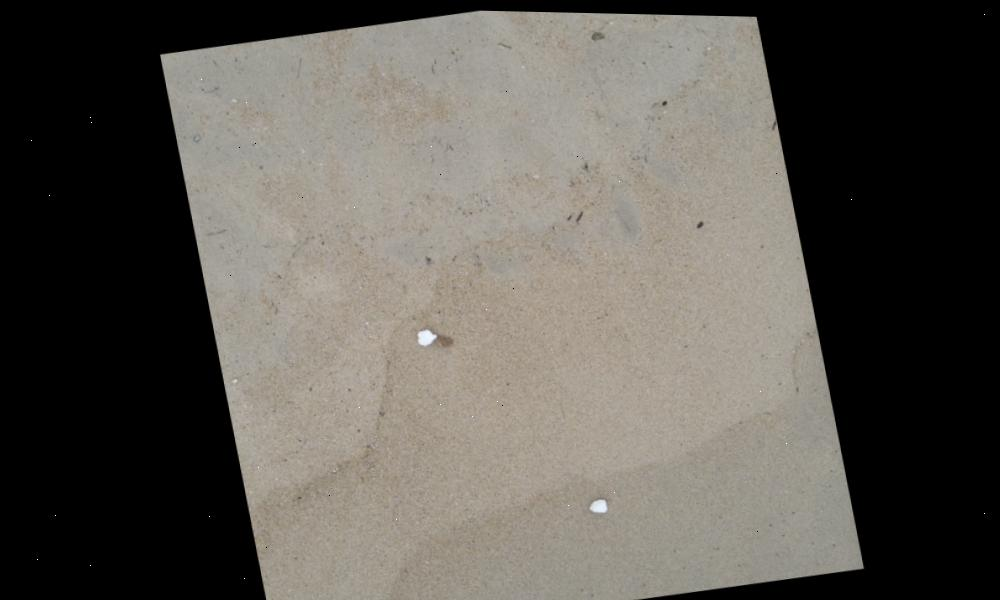styrofoam: (581, 494, 606, 514), (410, 326, 431, 345)
